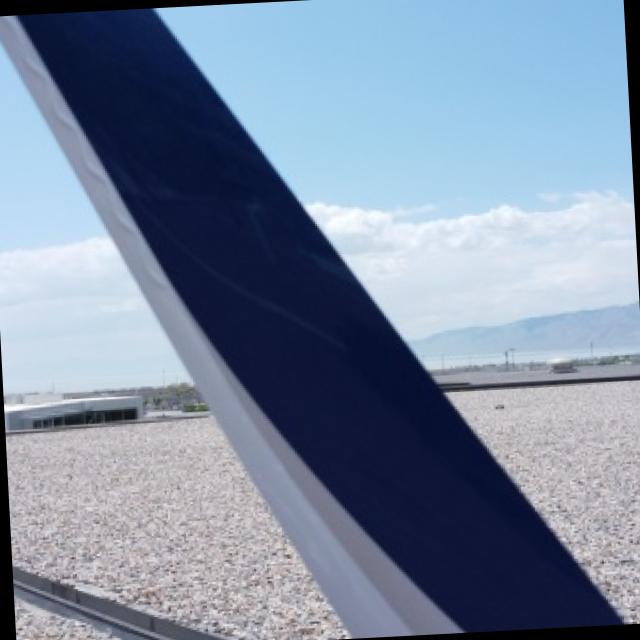healthy: (0, 8, 618, 637)
